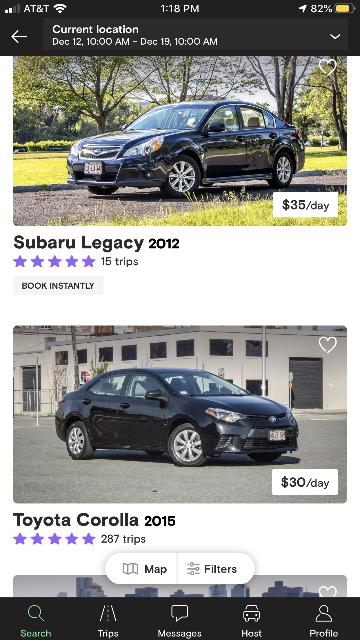Bottom_Navigation: (0, 598, 360, 640)
Icon: (13, 532, 95, 544), (13, 255, 95, 267), (316, 605, 332, 621), (244, 605, 260, 621), (172, 605, 188, 621), (100, 605, 116, 621), (28, 605, 44, 621), (320, 59, 336, 75), (320, 337, 336, 353), (320, 586, 336, 598), (122, 563, 138, 575), (12, 30, 26, 42), (187, 562, 199, 576), (330, 34, 340, 40)
Image: (13, 326, 346, 502), (13, 56, 346, 226), (13, 575, 346, 597)
Text: (13, 512, 175, 530), (14, 235, 178, 252), (54, 38, 216, 46), (54, 25, 138, 33), (281, 476, 329, 488), (283, 199, 329, 211), (101, 534, 145, 544), (23, 283, 94, 289), (101, 257, 137, 267), (158, 630, 202, 638), (206, 565, 236, 573), (146, 565, 166, 575), (21, 630, 51, 636), (310, 630, 338, 636), (98, 630, 118, 638), (242, 630, 262, 636)
TextButton: (13, 276, 103, 294)
TextImageButton: (178, 552, 254, 584), (105, 552, 177, 584), (158, 605, 202, 639), (21, 605, 51, 637), (310, 605, 338, 637), (98, 606, 118, 638), (242, 605, 262, 637)
Toolbar: (0, 16, 360, 56)
UpperTaskBar: (0, 0, 360, 14)
